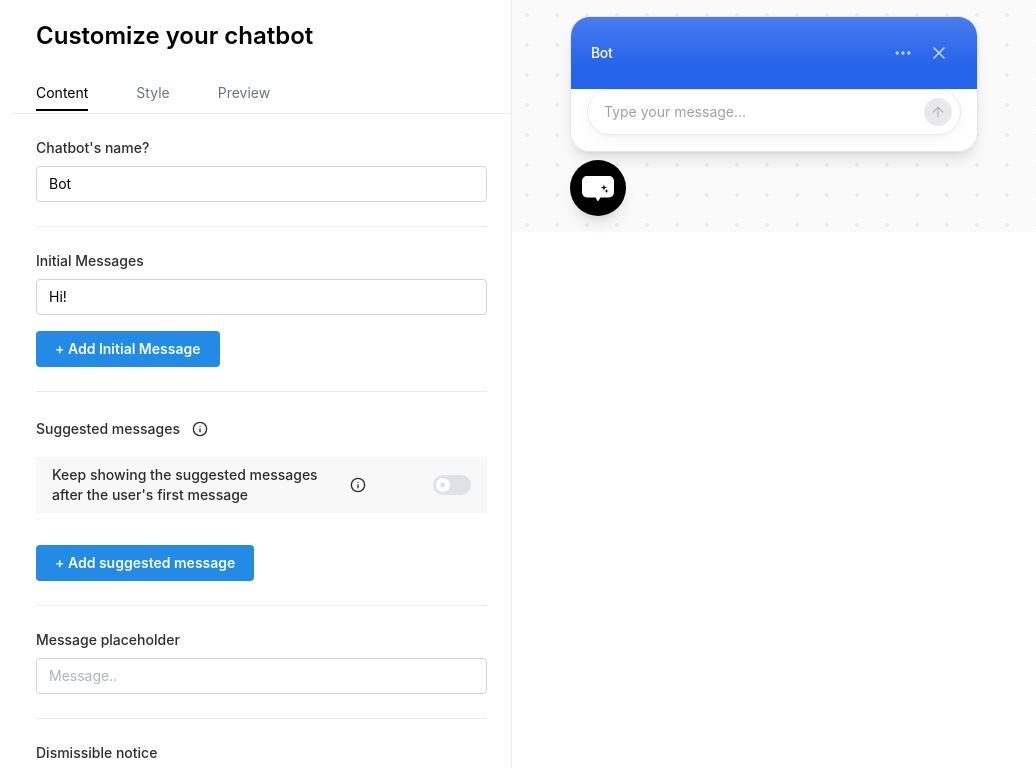
Test: Customize › save › cancel resets the form and hides the unsaved bar
This screenshot has width=1036, height=768.
Type "X" into the field with placeholder "Luna AI" below "Chatbot's name?" at (262, 184), box 36,166 -> 487,202
(page scrolled)
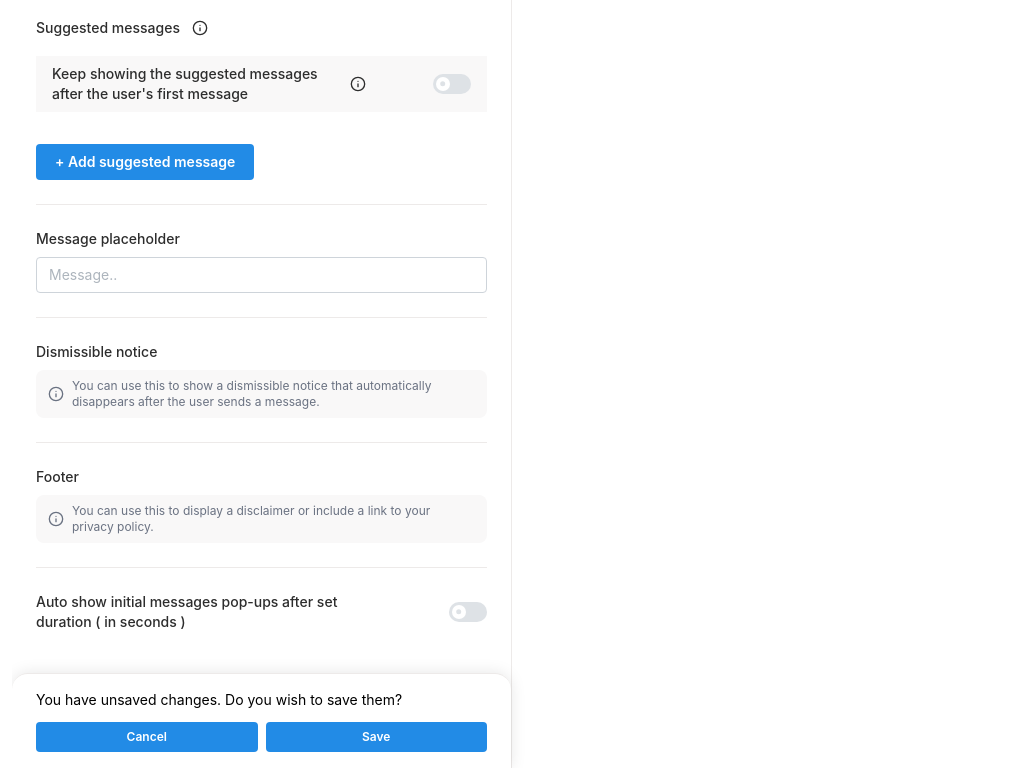
Click the button "Cancel" at (147, 737), box 36,722 -> 258,752
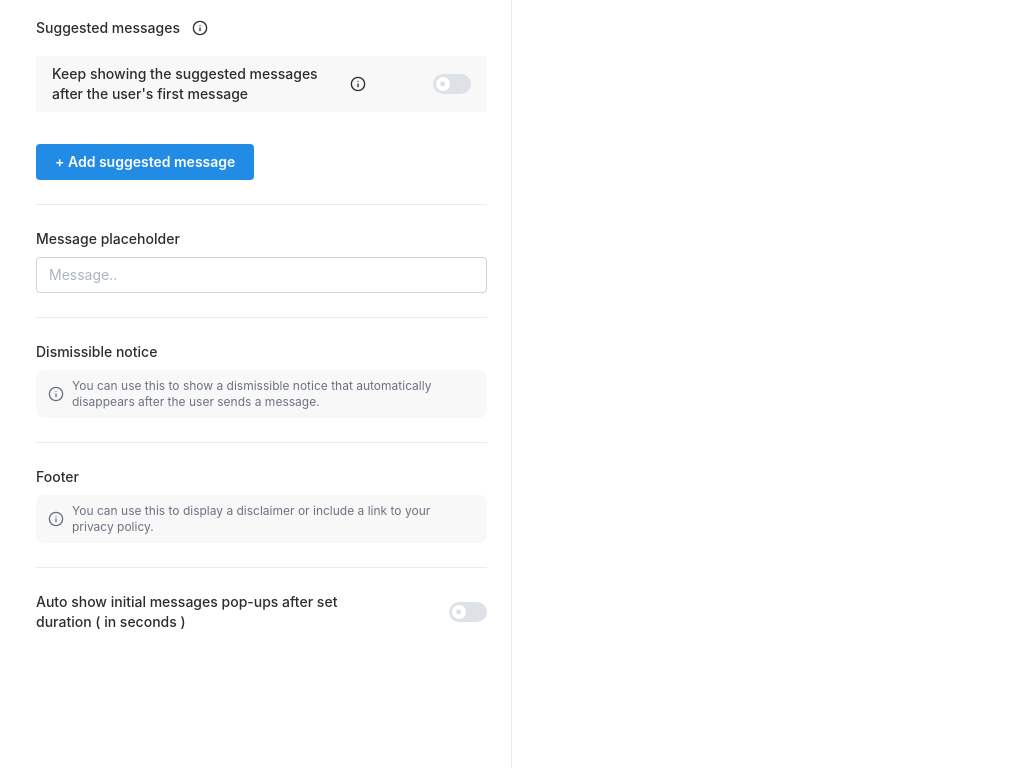
Expected: the text "unsaved changes" is gone
